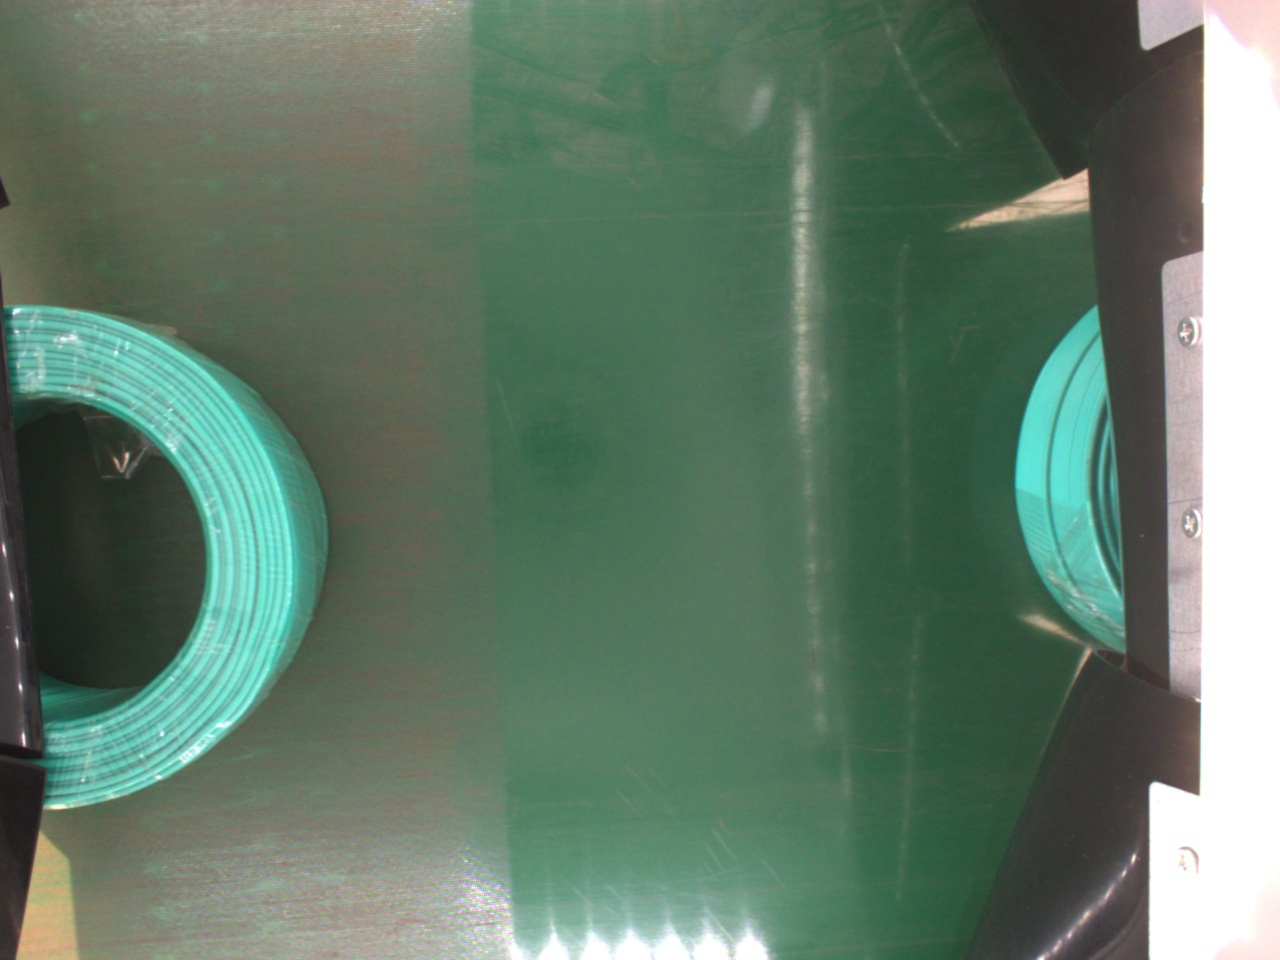green: (9, 303, 329, 814), (1008, 303, 1136, 663)
